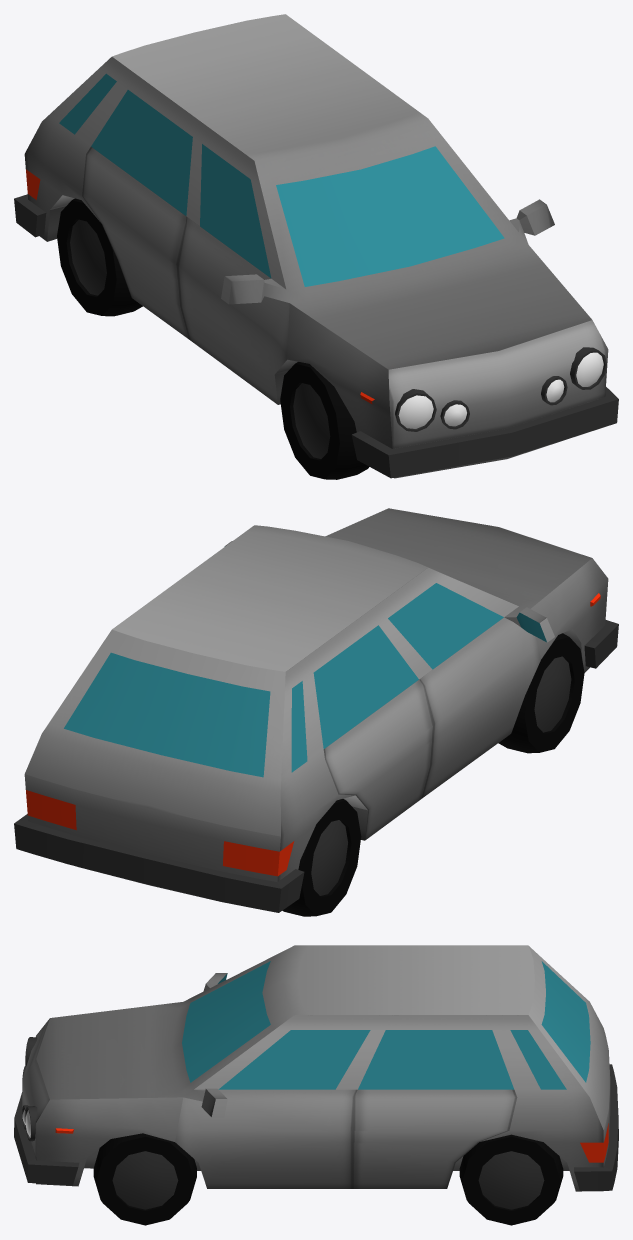
File: Delivery_Car.FBX
The picture shows the model from 3 angles, top to bottom: view 1: azimuth 30°, elevation 25°; view 2: azimuth 150°, elevation 25°; view 3: azimuth 270°, elevation 25°; orthographic projection. The views are drawn at different scales.
Parts seen in each view (by area): view 1: Chassis, Car, Wheel_Fr, Wheel_Bk; view 2: Chassis, Car, Wheel_Fr, Wheel_Bk; view 3: Chassis, Car, Wheel_Fr, Wheel_Bk.
Part boxes in pixels (<box>): Chassis: <box>24,14,608,478</box>; Car: <box>14,73,618,478</box>; Wheel_Fr: <box>280,362,369,479</box>; Wheel_Bk: <box>57,198,142,316</box>; Chassis: <box>24,508,608,907</box>; Car: <box>14,546,618,912</box>; Wheel_Fr: <box>498,633,584,753</box>; Wheel_Bk: <box>282,799,361,916</box>; Chassis: <box>22,945,610,1191</box>; Car: <box>14,961,618,1190</box>; Wheel_Fr: <box>93,1133,196,1225</box>; Wheel_Bk: <box>459,1134,563,1225</box>.
Size of the model in its own units: 116 by 82.11 by 226.
Materials: 6 (1 with a texture image).
